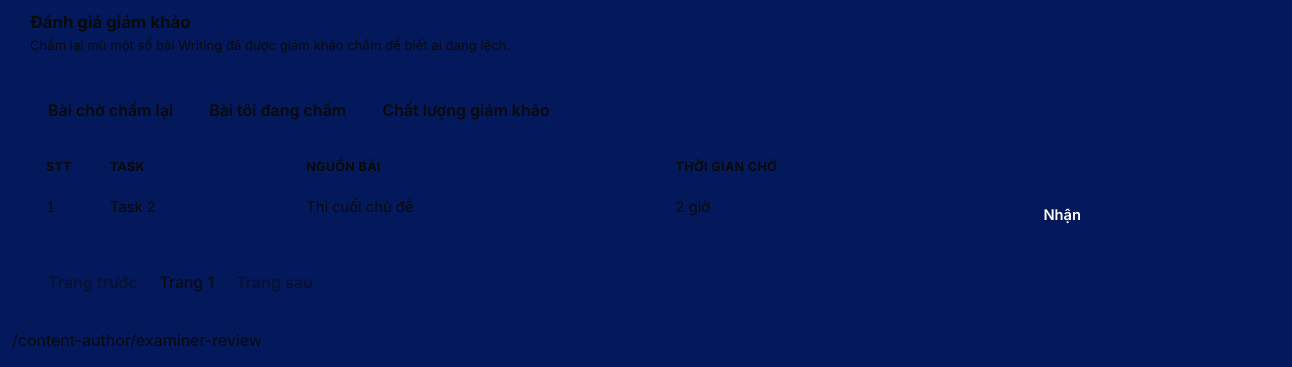
Test: ExaminerReviewPage › stays on the queue and shows the reason when an essay cannot be claimed
Click the button "Nhận" at x=1062, y=215, box [1029, 196, 1095, 234]
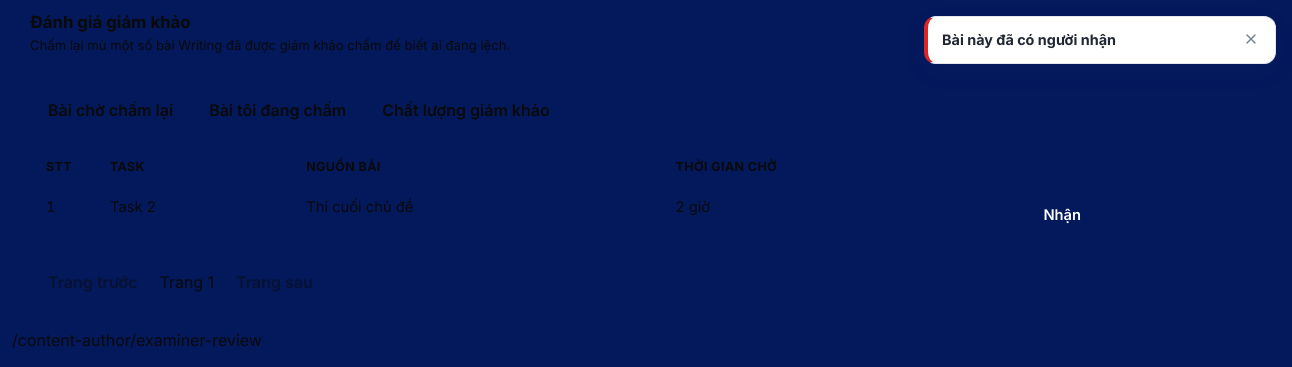
Expected: the text with test id "location" reads "/content-author/examiner-review", [12, 330, 262, 350]
Result: the message reads "Bài này đã có người nhận" at [942, 31, 1116, 48]
